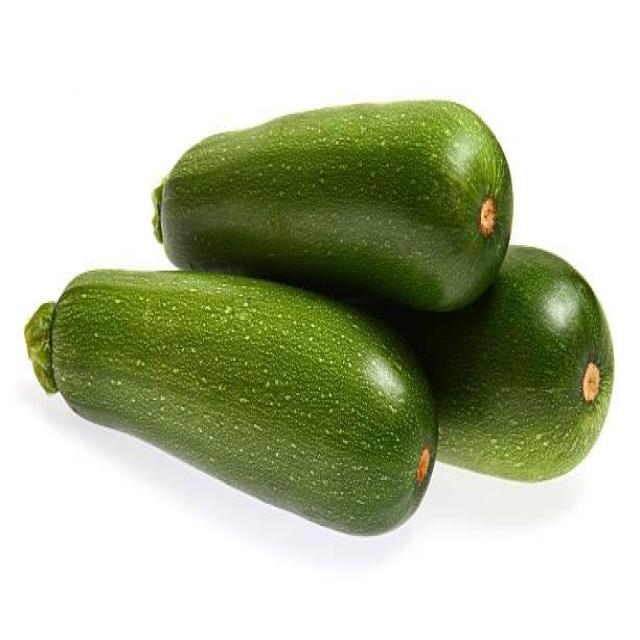Courgette: (25, 271, 436, 534), (160, 100, 512, 310), (411, 245, 613, 480)
